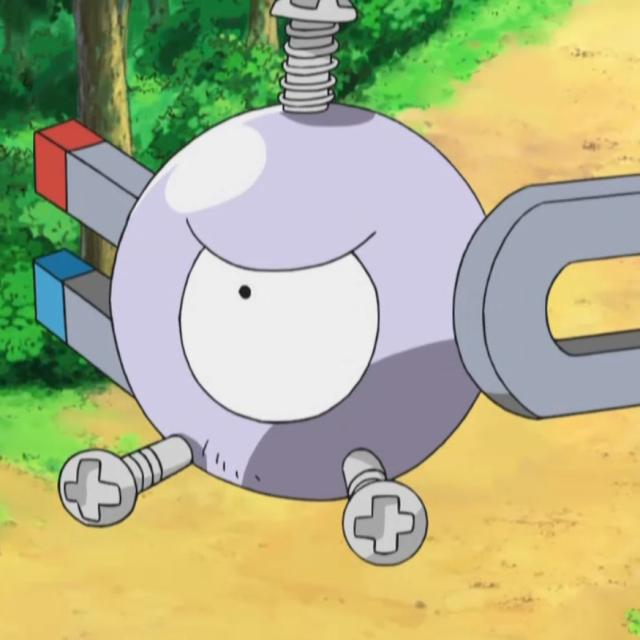Magnemite: (18, 33, 640, 549)
